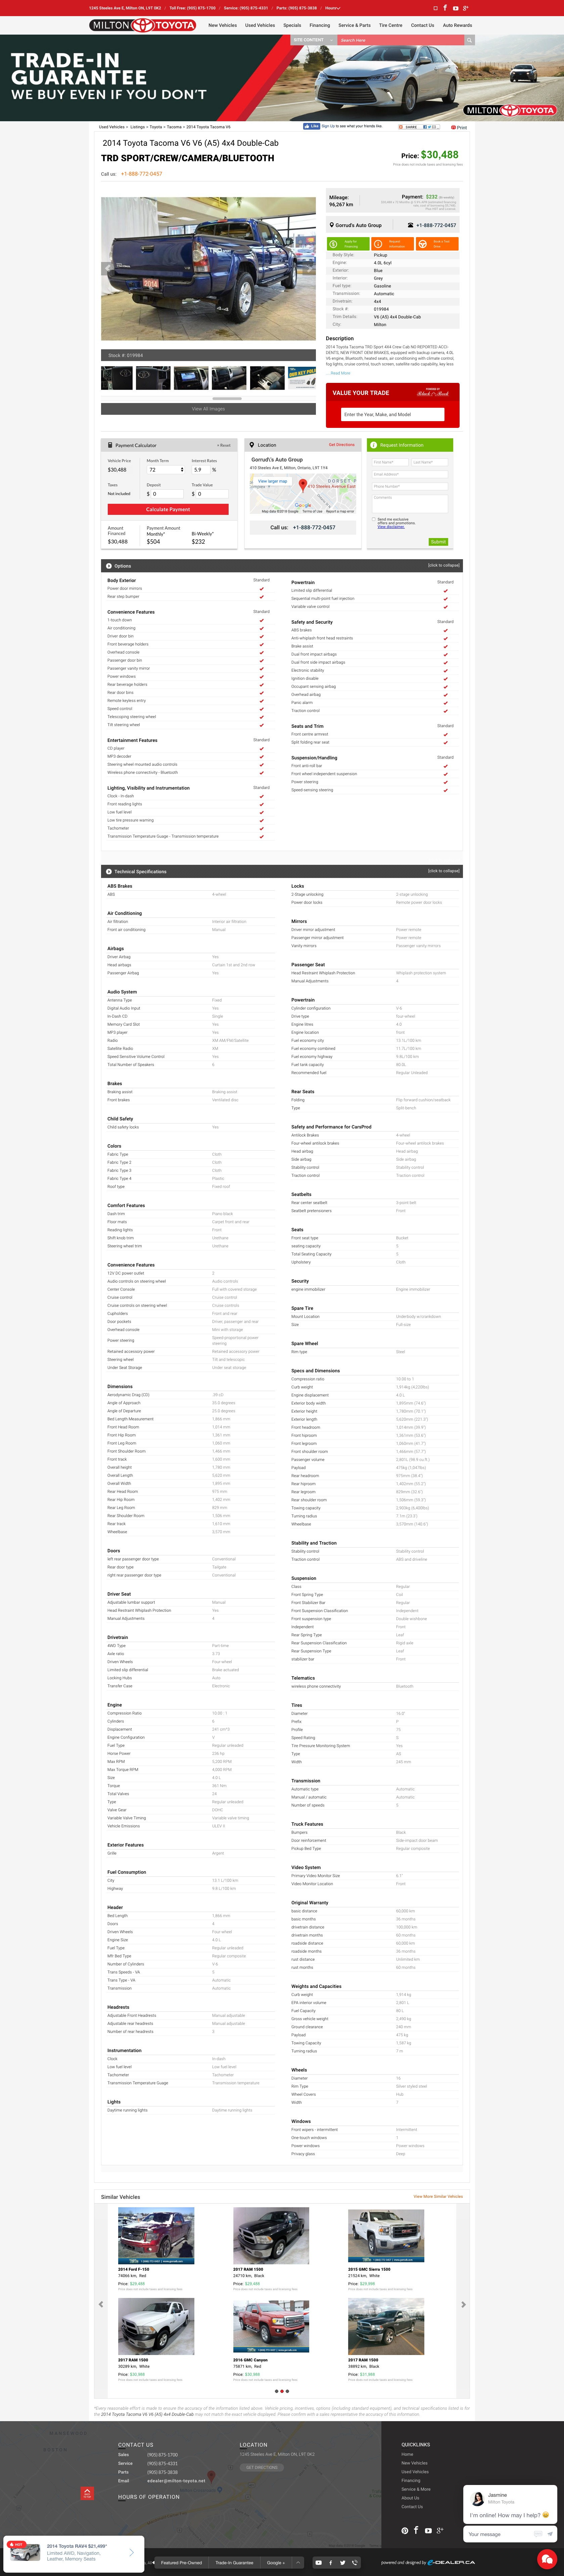car: (306, 264, 312, 273)
